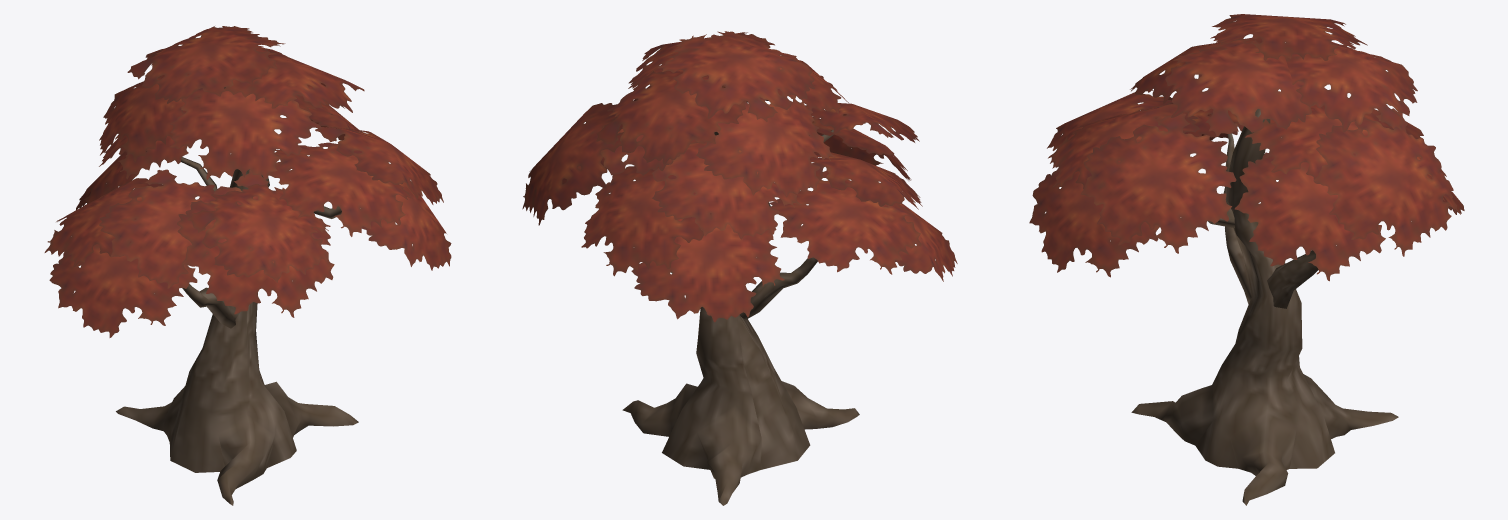
File: Tree_07.fbx
3 views of the same model, side by side, from view 1: azimuth 30°, elevation 25°; view 2: azimuth 150°, elevation 25°; view 3: azimuth 270°, elevation 25° (orthographic). The views are drawn at different scales.
Parts seen in each view (by area): view 1: Tree_07; view 2: Tree_07; view 3: Tree_07.
Part boxes in pixels (x1,y1,x2,y2): Tree_07: (44,26,451,505); Tree_07: (522,31,957,505); Tree_07: (1029,14,1464,505).
Bounding box in the file's own units: 461 × 446 × 473.
Materials: 2 (2 with a texture image).
